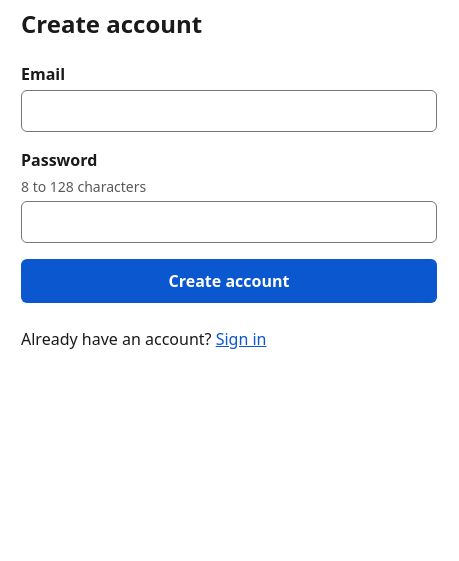
Test: RegisterPage › validation before sending › lists what is missing, focuses the summary and sends nothing
Click the button "Create account".
click(229, 281)  # box [21, 259, 437, 303]
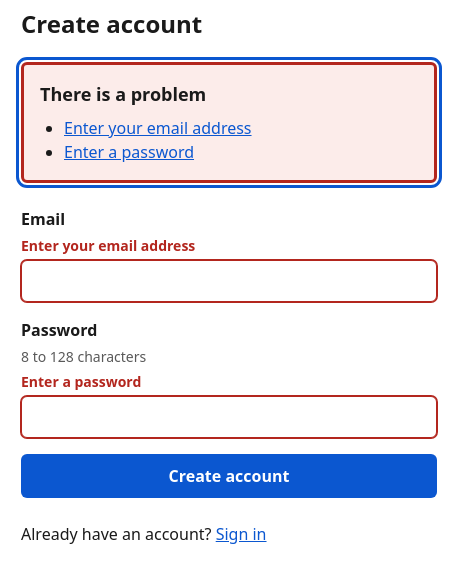
Expected: the link "Enter your email address" is shown, [64, 117, 252, 139]
Expected: the link "Enter a password" is shown, [64, 141, 194, 163]
